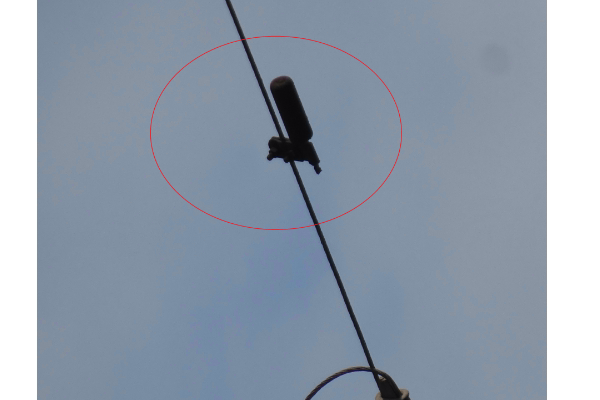damper_defect: (258, 73, 325, 178)
